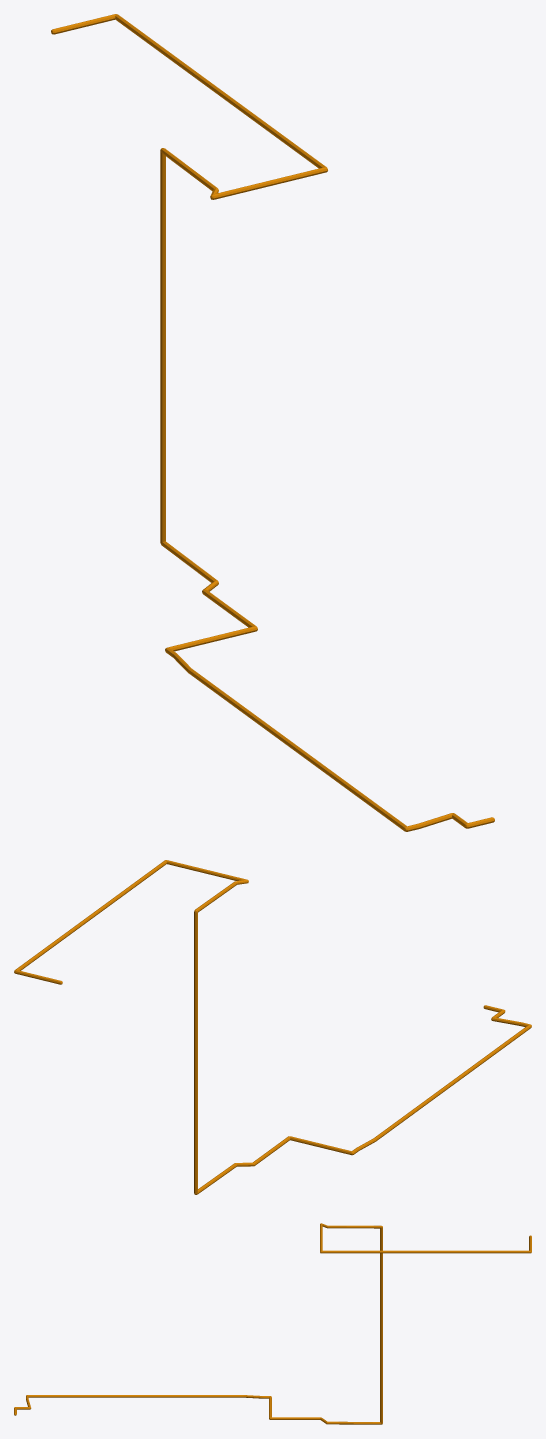
3 renders of one model, top to bottom at view 1: azimuth 30°, elevation 25°; view 2: azimuth 150°, elevation 25°; view 3: azimuth 270°, elevation 25°, orthographic. The views are drawn at different scales.
Bounding box in the file's own units: 871 × 1520 × 3589.
